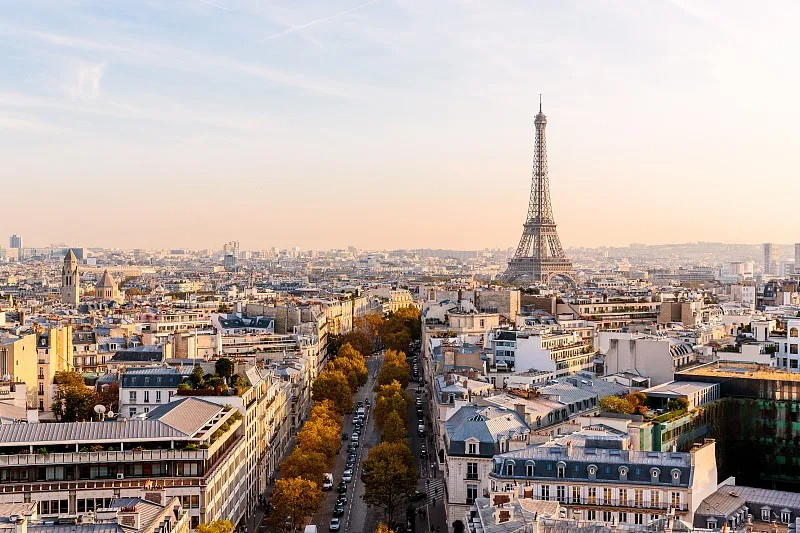Eiffel: (497, 94, 580, 293)
